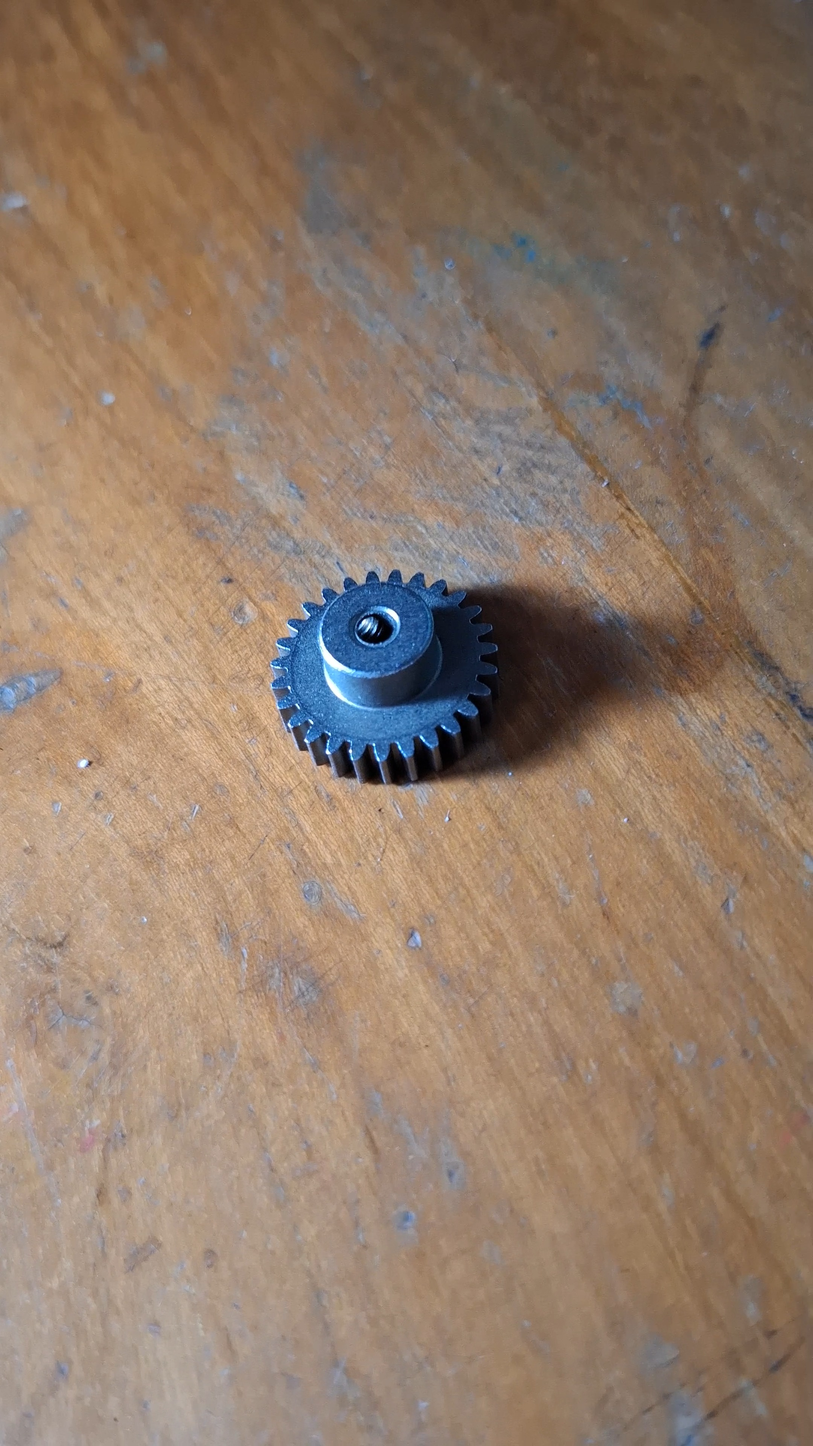spur gear: (279, 577, 518, 785), (271, 570, 497, 782)
